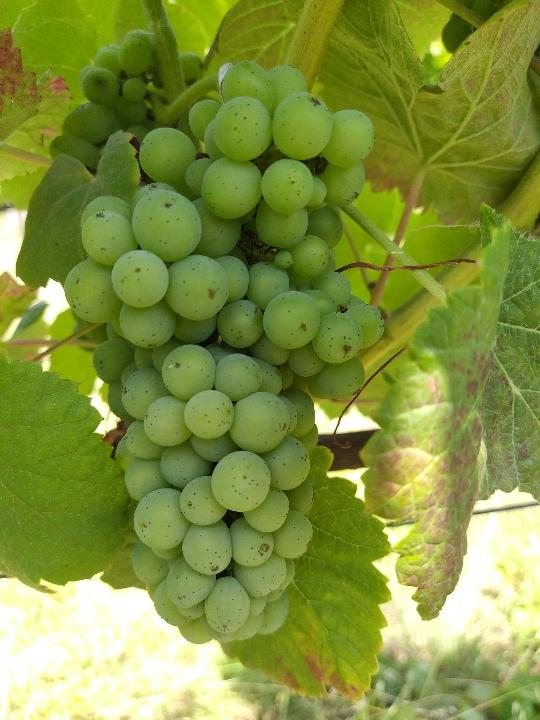grape: (63, 57, 391, 648)
